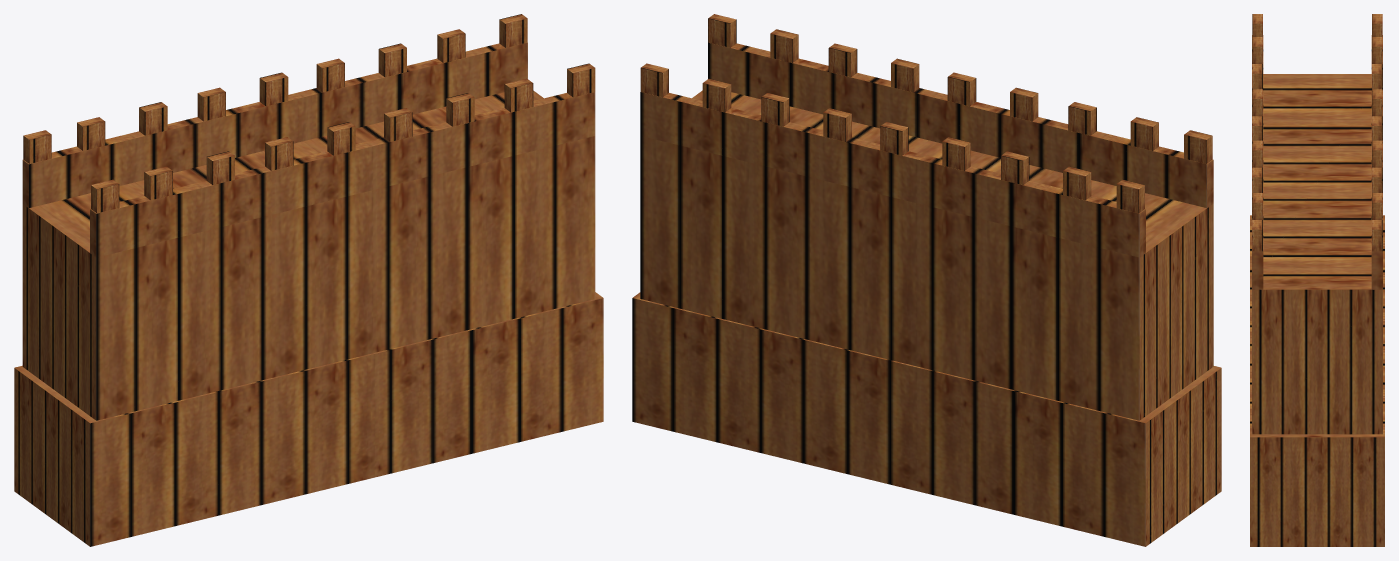
File: wall_long.dae
3 views of the same model, side by side, from view 1: azimuth 30°, elevation 25°; view 2: azimuth 150°, elevation 25°; view 3: azimuth 270°, elevation 25° (orthographic). The views are drawn at different scales.
Parts seen in each view (by area): view 1: wall_long; view 2: wall_long; view 3: wall_long.
Part boxes in pixels (x1,y1,x2,y2): wall_long: (14,14,603,546); wall_long: (632,14,1221,546); wall_long: (1250,14,1384,546).
Size of the model in its own units: 33.22 by 8.52 by 21.93.
